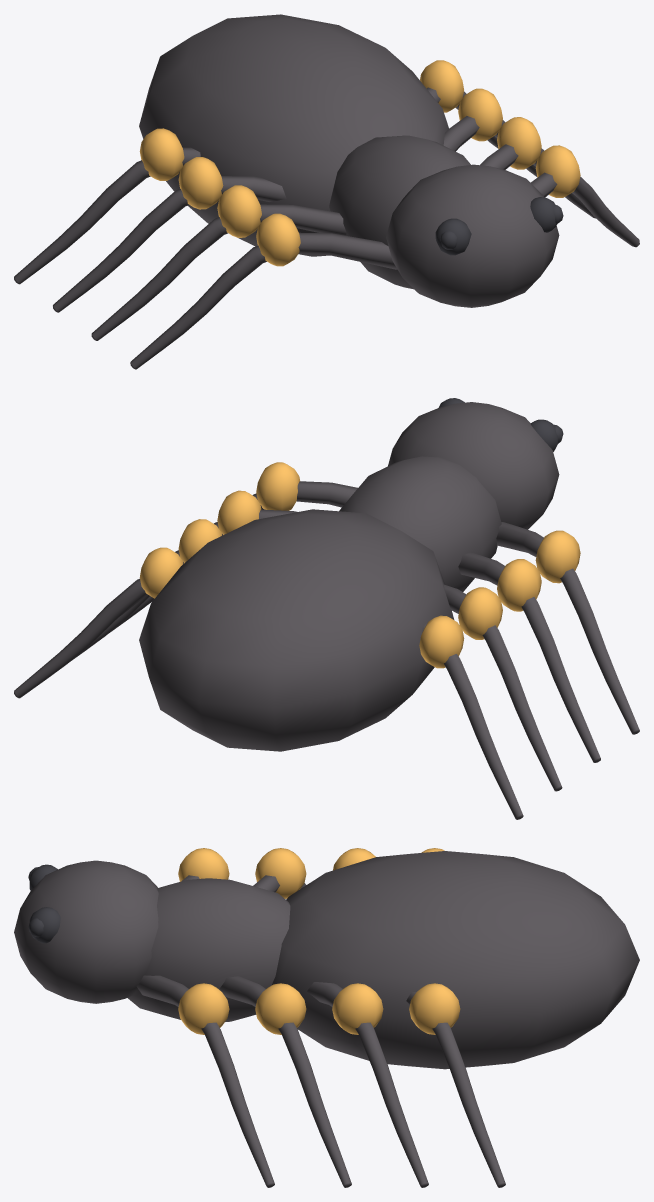
The model's file is reptiles-amphibians-and-minibeasts-mexican-red-knee-ta-7ccec55b__22456.glb.
3 renders of one model, top to bottom at view 1: azimuth 30°, elevation 25°; view 2: azimuth 150°, elevation 25°; view 3: azimuth 270°, elevation 25°, orthographic.
Parts seen in each view (by area): view 1: mexican-red-knee-tarantula; view 2: mexican-red-knee-tarantula; view 3: mexican-red-knee-tarantula.
Part boxes in pixels (<box>): mexican-red-knee-tarantula: <box>14,14,639,369</box>; mexican-red-knee-tarantula: <box>14,398,639,819</box>; mexican-red-knee-tarantula: <box>14,848,639,1187</box>.
Bounding box in the file's own units: 0.1396 × 0.0527 × 0.15.
